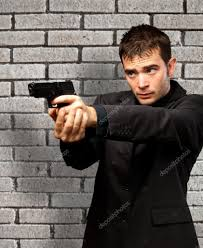gun: (25, 78, 91, 123)
